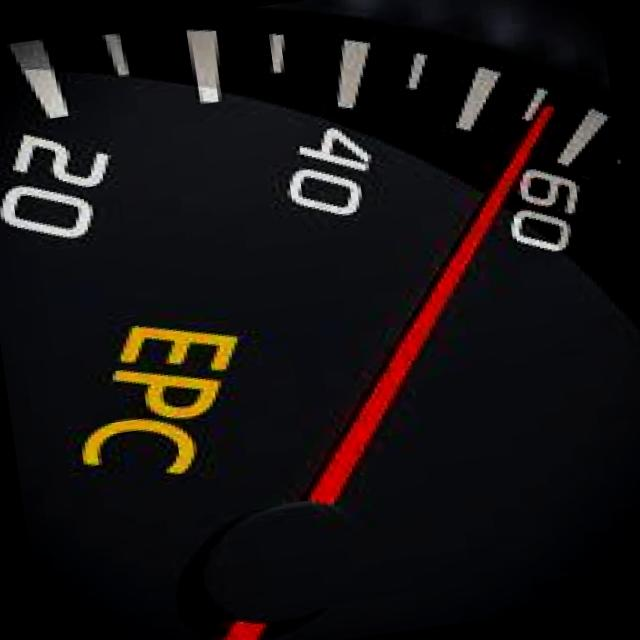kontrolka: (45, 281, 298, 506)
